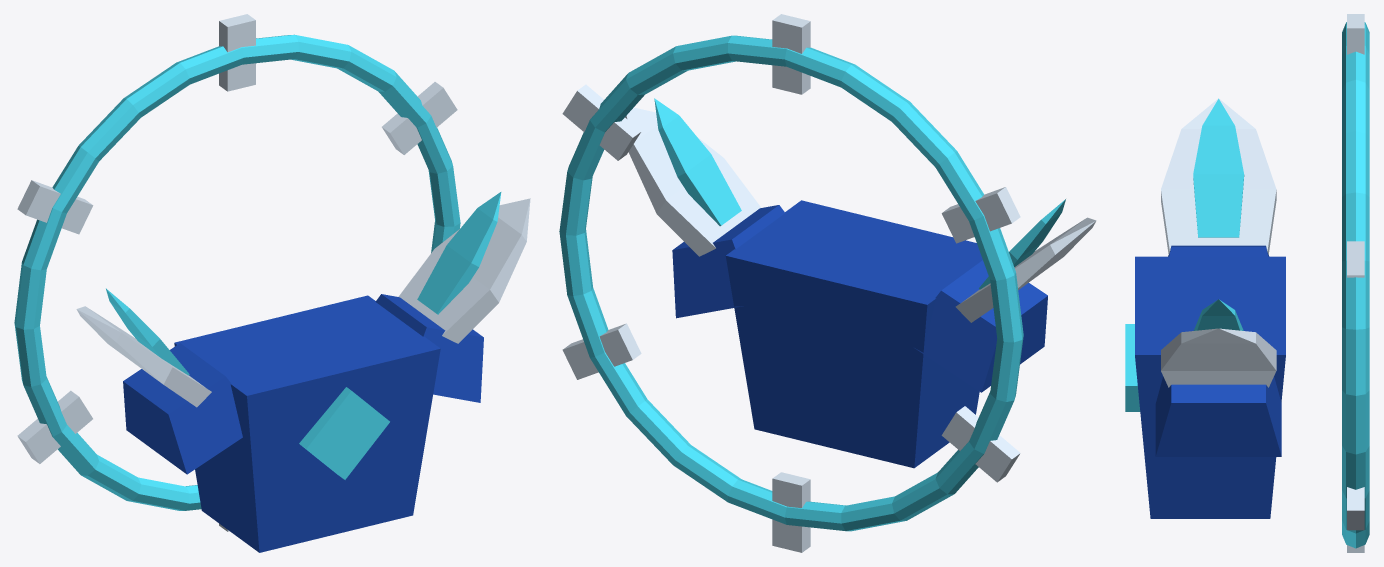
File: Skin_StormArmor.obj
The picture shows the model from 3 angles, left to right: view 1: azimuth 30°, elevation 25°; view 2: azimuth 150°, elevation 25°; view 3: azimuth 270°, elevation 25°; orthographic projection. The views are drawn at different scales.
Visible parts, largest first — view 1: Skin_StormArmor_BaseArmor, Skin_StormArmor_EmissiveCore, Skin_StormArmor_TrimMetal; view 2: Skin_StormArmor_BaseArmor, Skin_StormArmor_EmissiveCore, Skin_StormArmor_TrimMetal; view 3: Skin_StormArmor_BaseArmor, Skin_StormArmor_EmissiveCore, Skin_StormArmor_TrimMetal.
Part boxes in pixels (box(x1,y1,x2,y2)): Skin_StormArmor_BaseArmor: box(123, 294, 483, 552); Skin_StormArmor_EmissiveCore: box(14, 34, 501, 510); Skin_StormArmor_TrimMetal: box(17, 14, 530, 531); Skin_StormArmor_BaseArmor: box(672, 200, 1047, 468); Skin_StormArmor_EmissiveCore: box(559, 35, 1065, 531); Skin_StormArmor_TrimMetal: box(562, 14, 1096, 552); Skin_StormArmor_BaseArmor: box(1135, 245, 1285, 518); Skin_StormArmor_EmissiveCore: box(1125, 22, 1369, 548); Skin_StormArmor_TrimMetal: box(1161, 14, 1364, 552).
Bounding box in the file's own units: 0.9931 × 1.06 × 0.445.
